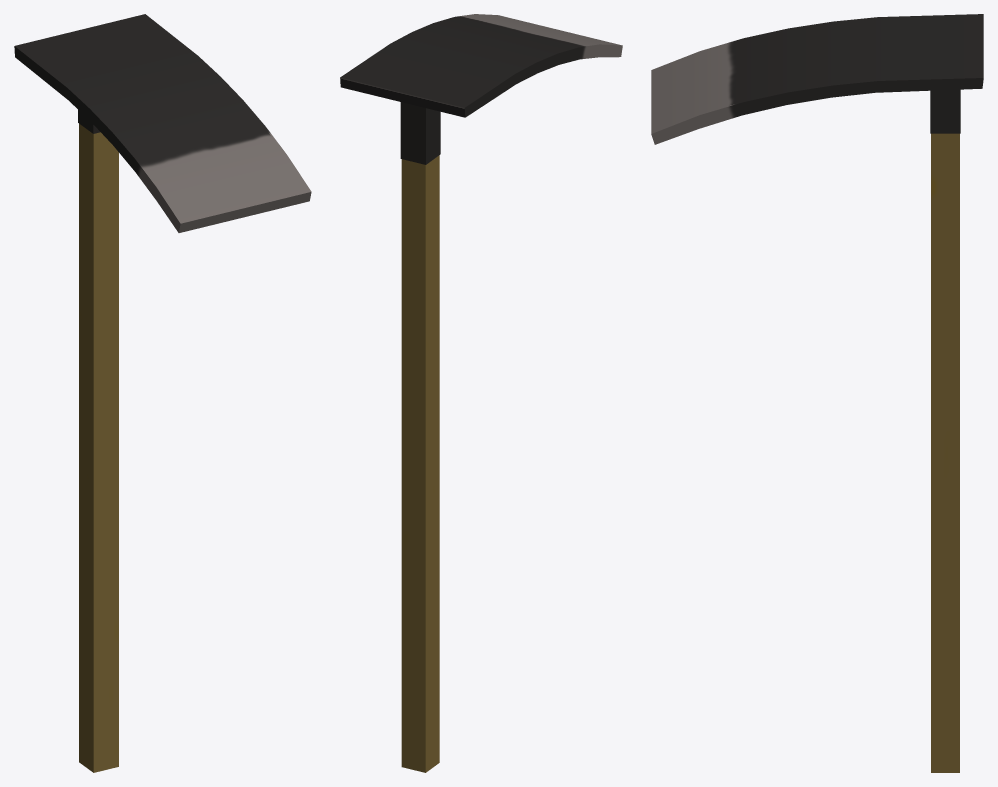
Rendered from hoe.fbx.
The picture shows the model from 3 angles, left to right: view 1: azimuth 30°, elevation 25°; view 2: azimuth 150°, elevation 25°; view 3: azimuth 270°, elevation 25°; orthographic projection. The views are drawn at different scales.
Visible parts, largest first — view 1: Cube; view 2: Cube; view 3: Cube.
Boxes of the visible parts, box(x1,y1,x2,y2) form: Cube: box(14, 14, 311, 772); Cube: box(340, 14, 622, 772); Cube: box(651, 14, 983, 772).
Size of the model in its own units: 48.93 by 257 by 108.
